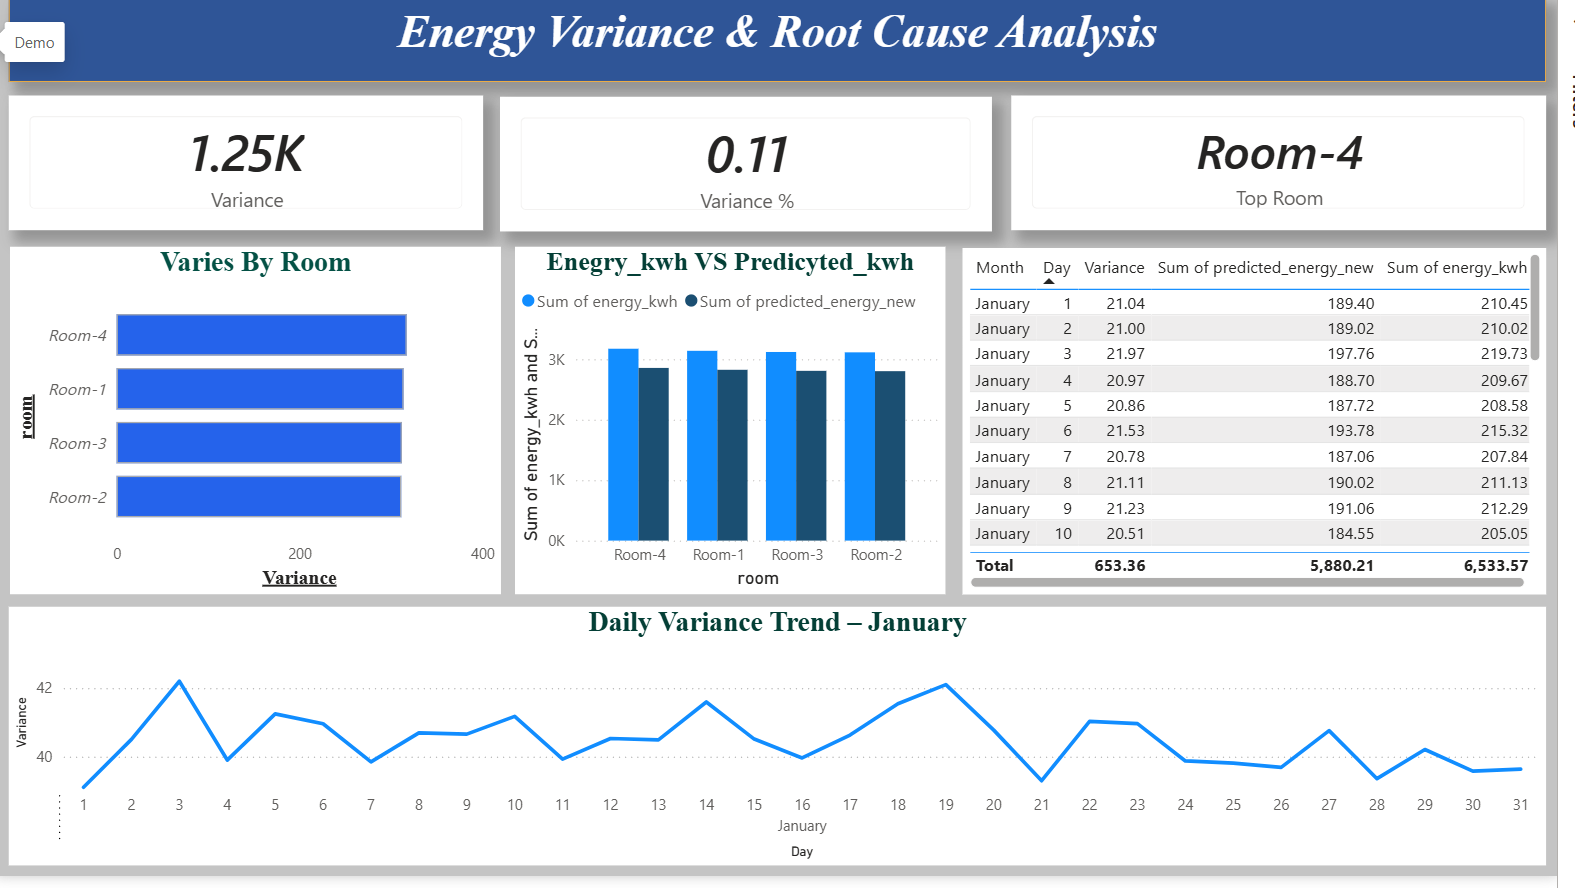

This screenshot's page, from the dashboard's own definition file:
{"tool":"powerbi","page":{"name":"Room Wise Analysis","canvas":[1280,720],"ordinal":1},"visuals":[{"type":"textbox","box":[11.6,0,1260.1,68.5],"z":0},{"type":"cardVisual","fields":{"Data":["final_energy_analysis.Variance"]},"box":[11.6,80.1,389.1,110.7],"z":1000},{"type":"cardVisual","fields":{"Data":["final_energy_analysis.Variance %"]},"box":[414.3,80.5,403.5,110.5],"z":2000},{"type":"cardVisual","fields":{"Data":["final_energy_analysis.Top Room"]},"box":[833,80.1,438.7,110.7],"z":3000},{"type":"clusteredBarChart","title":"Varies By Room","fields":{"Category":["final_energy_analysis.room"],"Y":["final_energy_analysis.Variance"]},"box":[12,204.1,402.3,284.6],"z":4000},{"type":"clusteredColumnChart","title":"Enegry_kwh VS Predicyted_kwh","fields":{"Category":["final_energy_analysis.room"],"Y":["Sum(final_energy_analysis.energy_kwh)","Sum(final_energy_analysis.predicted_energy_new)"]},"box":[426.3,204.1,353,284.6],"z":5000},{"type":"tableEx","fields":{"Values":["final_energy_analysis.timestamp.Variation.Date Hierarchy.Month","final_energy_analysis.timestamp.Variation.Date Hierarchy.Day","final_energy_analysis.Variance","Sum(final_energy_analysis.predicted_energy_new)","Sum(final_energy_analysis.energy_kwh)"]},"box":[793,204.6,478.7,283.7],"z":6000},{"type":"lineChart","title":"Daily Variance Trend – January","fields":{"Y":["final_energy_analysis.Variance"],"Category":["final_energy_analysis.timestamp.Variation.Date Hierarchy.Month","final_energy_analysis.timestamp.Variation.Date Hierarchy.Day"]},"box":[11.6,498.8,1260.1,212],"z":7000}]}

Visuals, with their boxes in screenshot pixels (x1, y1, x2, y2), scaled from the page's 1280x720 canvas onto the 1575x888 screenshot:
textbox: (14, 0, 1565, 84)
cardVisual - final_energy_analysis.Variance: (14, 99, 493, 235)
cardVisual - final_energy_analysis.Variance %: (510, 99, 1006, 236)
cardVisual - final_energy_analysis.Top Room: (1025, 99, 1565, 235)
"Varies By Room" clusteredBarChart: (15, 252, 510, 603)
"Enegry_kwh VS Predicyted_kwh" clusteredColumnChart: (525, 252, 959, 603)
tableEx - final_energy_analysis.timestamp.Variation.Date Hierarchy.Month x final_energy_analysis.timestamp.Variation.Date Hierarchy.Day: (976, 252, 1565, 602)
"Daily Variance Trend – January" lineChart: (14, 615, 1565, 877)
